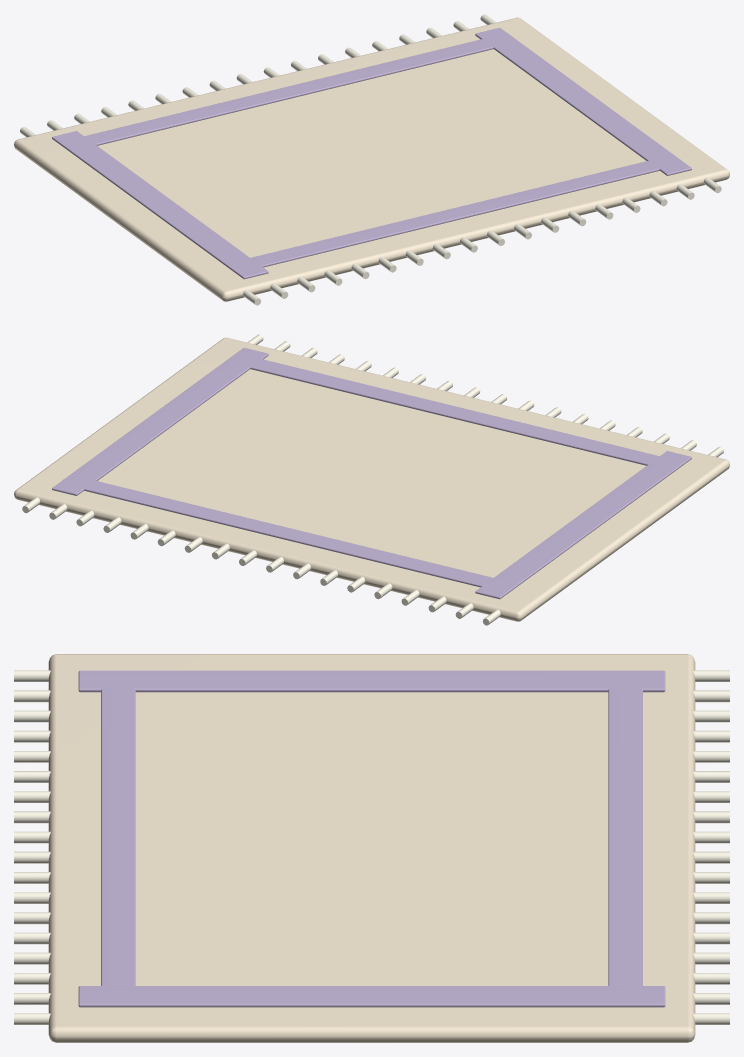
The model's file is bedroomRug.glb.
3 views of the same model, one above another, from view 1: azimuth 30°, elevation 25°; view 2: azimuth 150°, elevation 25°; view 3: azimuth 270°, elevation 25° (orthographic). The views are drawn at different scales.
Visible parts, largest first — view 1: Woven bedroom rug, Rug border.003, Rug border.002, Rug border, Rug border.001; view 2: Woven bedroom rug, Rug border.002, Rug border.003, Rug border, Rug border.001; view 3: Woven bedroom rug, Rug border, Rug border.001, Rug border.003, Rug border.002.
Boxes of the visible parts, box(x1,y1,x2,y2) form: Woven bedroom rug: box(14, 17, 729, 301); Rug border.003: box(79, 38, 497, 145); Rug border.002: box(245, 160, 659, 267); Rug border: box(52, 131, 268, 279); Rug border.001: box(475, 27, 691, 175); Woven bedroom rug: box(14, 337, 729, 621); Rug border.002: box(245, 358, 664, 465); Rug border.003: box(84, 480, 498, 587); Rug border: box(475, 451, 691, 599); Rug border.001: box(52, 347, 268, 495); Woven bedroom rug: box(48, 654, 695, 1042); Rug border: box(78, 670, 665, 692); Rug border.001: box(78, 986, 665, 1007); Rug border.003: box(608, 684, 642, 989); Rug border.002: box(101, 684, 135, 989).
Size of the model in its own units: 1.8 by 0.0425 by 1.44.
